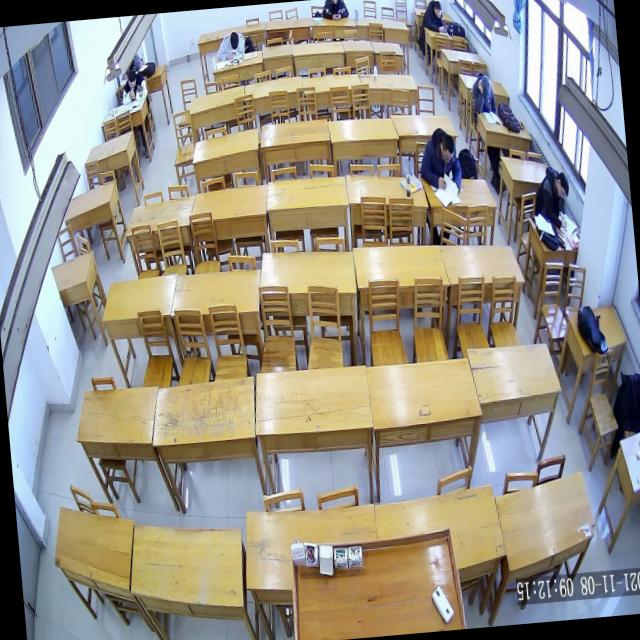bow: (214, 30, 246, 60), (421, 0, 447, 33)
down: (438, 133, 454, 162), (555, 170, 570, 199), (478, 73, 491, 97), (228, 30, 240, 50), (126, 68, 137, 89), (433, 0, 443, 19)
sit: (416, 126, 462, 193), (534, 165, 572, 231), (470, 70, 496, 114), (120, 67, 148, 105)
